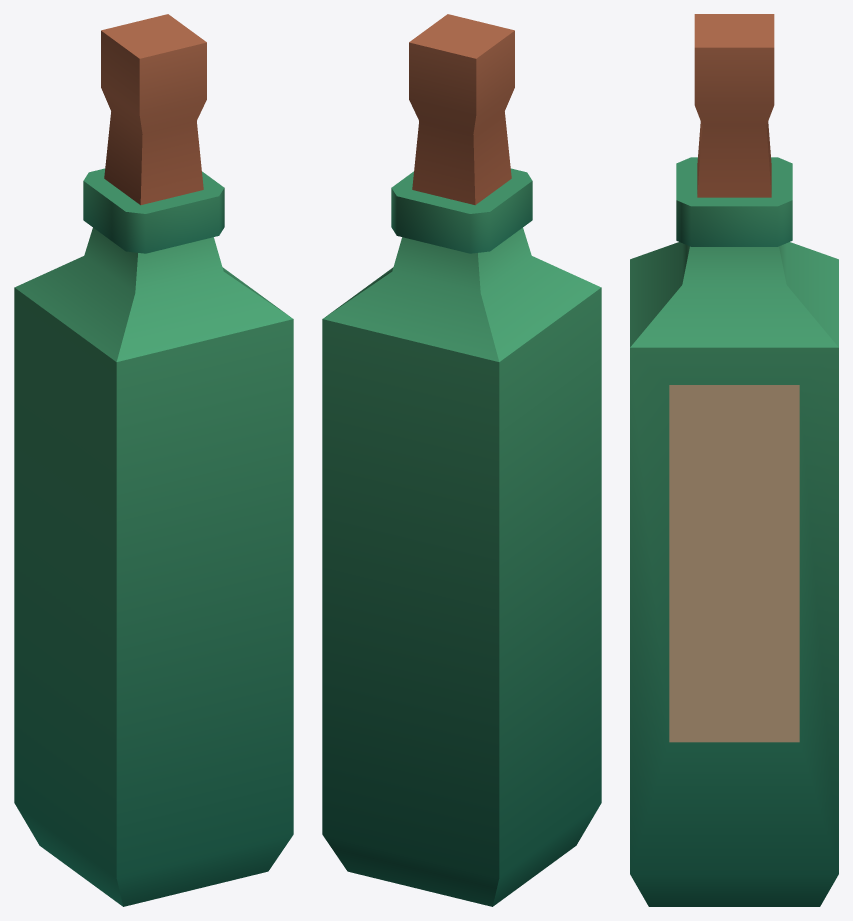
Rendered from bottle-oil.glb.
3 renders of one model, left to right at view 1: azimuth 30°, elevation 25°; view 2: azimuth 150°, elevation 25°; view 3: azimuth 270°, elevation 25°, orthographic. The views are drawn at different scales.
Visible parts, largest first — view 1: bottle-oil; view 2: bottle-oil; view 3: bottle-oil.
Boxes of the visible parts, left/top/right/bottom form: bottle-oil: left=14, top=14, right=293, bottom=906; bottle-oil: left=322, top=14, right=601, bottom=906; bottle-oil: left=630, top=14, right=838, bottom=906.
Size of the model in its own units: 0.14 by 0.6218 by 0.14.
